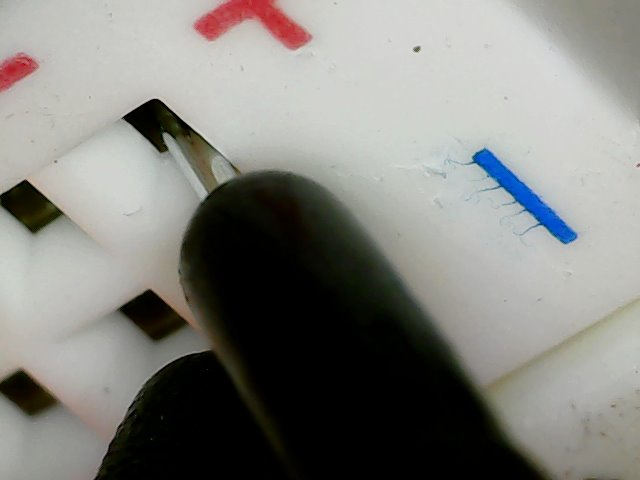connect: (81, 72, 261, 211)
